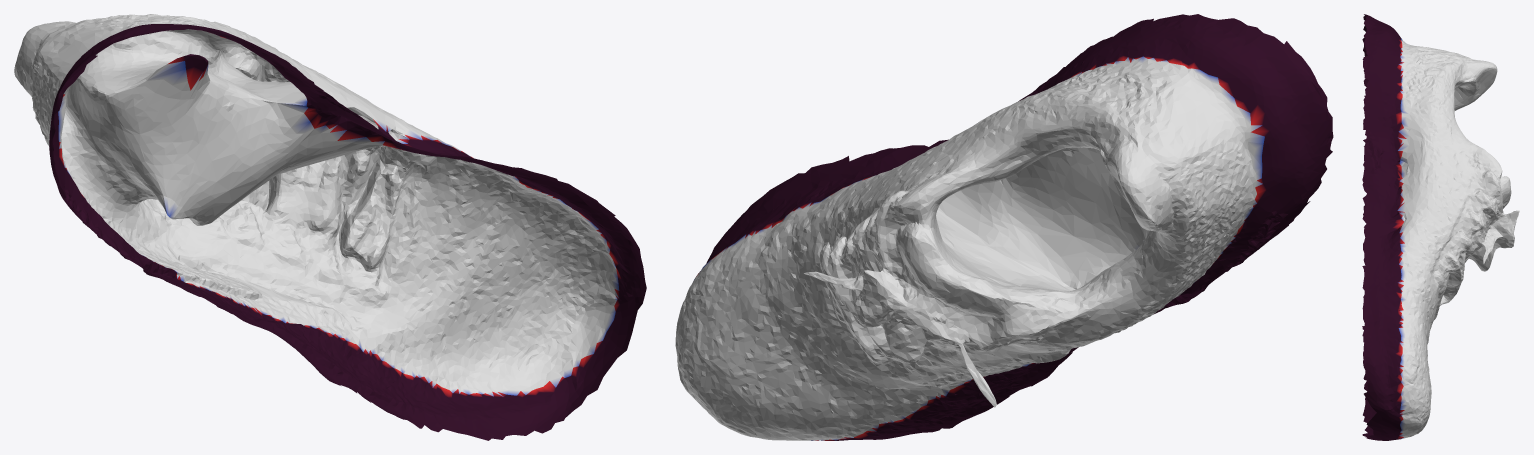
The model's file is shoe_colored.obj.
The picture shows the model from 3 angles, left to right: view 1: azimuth 30°, elevation 25°; view 2: azimuth 150°, elevation 25°; view 3: azimuth 270°, elevation 25°; orthographic projection. The views are drawn at different scales.
Parts seen in each view (by area): view 1: Shoe; view 2: Shoe; view 3: Shoe.
Part boxes in pixels (x1,y1,x2,y2): Shoe: (14,14,646,440); Shoe: (675,14,1333,440); Shoe: (1362,14,1519,440).
Bounding box in the file's own units: 0.2585 × 0.2036 × 0.0979.
